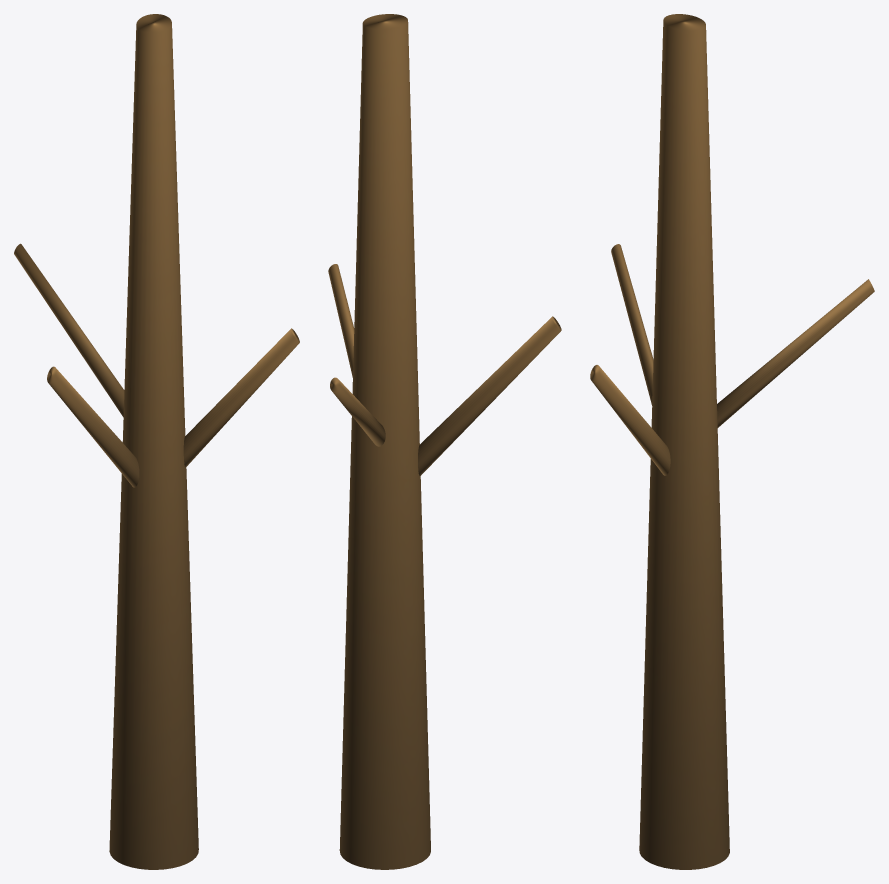
The model's file is SM_TreeDead.fbx.
The picture shows the model from 3 angles, left to right: view 1: azimuth 30°, elevation 25°; view 2: azimuth 150°, elevation 25°; view 3: azimuth 270°, elevation 25°; orthographic projection.
Parts seen in each view (by area): view 1: Tree_Dead; view 2: Tree_Dead; view 3: Tree_Dead.
Part boxes in pixels (bbox=[...]): Tree_Dead: bbox=[14, 14, 299, 869]; Tree_Dead: bbox=[328, 14, 561, 869]; Tree_Dead: bbox=[590, 14, 874, 869].
Size of the model in its own units: 132 by 431 by 134.
